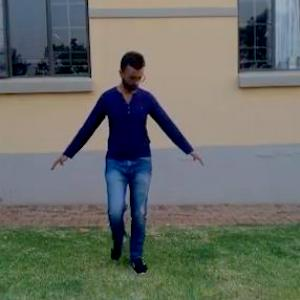land: (50, 39, 224, 262)
